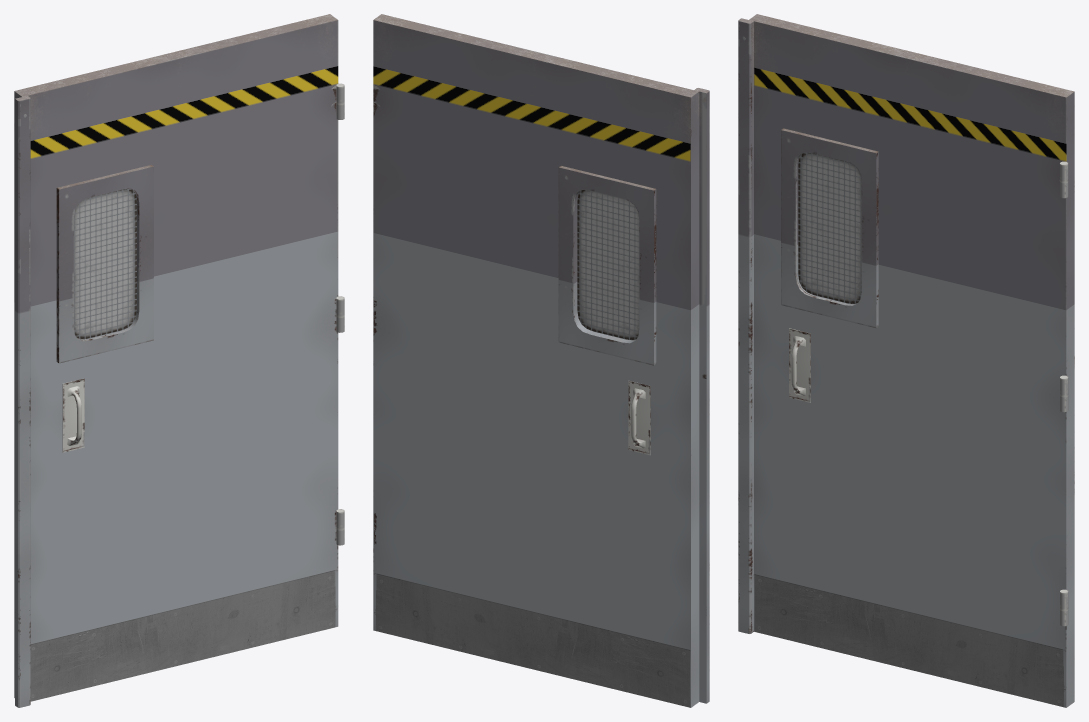
File: SM_Gate_Gate_B.fbx
3 renders of one model, left to right at view 1: azimuth 30°, elevation 25°; view 2: azimuth 150°, elevation 25°; view 3: azimuth 330°, elevation 25°, orthographic.
Parts seen in each view (by area): view 1: SM_Gate_Gate_B; view 2: SM_Gate_Gate_B; view 3: SM_Gate_Gate_B.
Part boxes in pixels (left/top/right/bottom): SM_Gate_Gate_B: left=14, top=14, right=344, bottom=707; SM_Gate_Gate_B: left=373, top=14, right=709, bottom=707; SM_Gate_Gate_B: left=738, top=14, right=1074, bottom=707.
Bounding box in the file's own units: 140 × 16.3 × 248.
2 materials, 2 textured.
